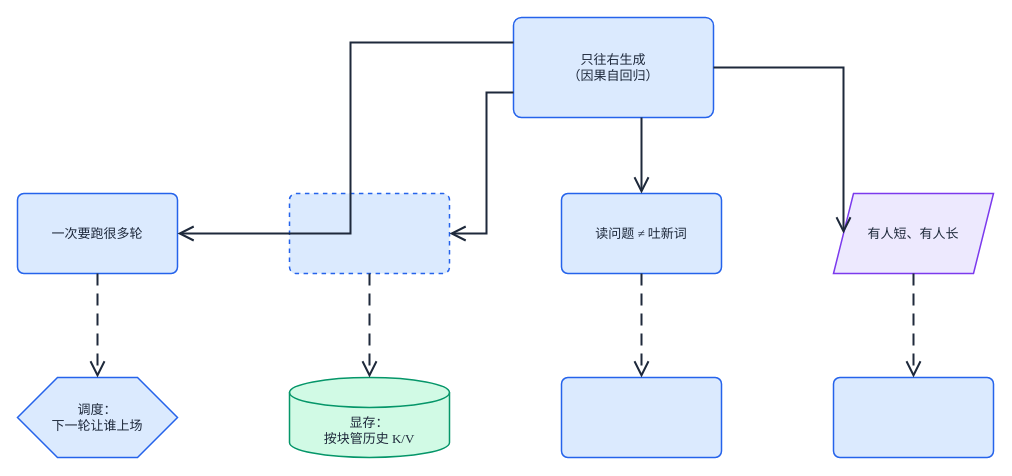
Image size: 1012x476. Some labels were removed from this diagram. The centre of each missing label's shape, as x and y in pixels:
"两段活 怎么安排" goes at point (641, 417).
"历史可缓存 显存会涨" goes at point (369, 233).
"真正去算 接到用户" goes at point (913, 417).
